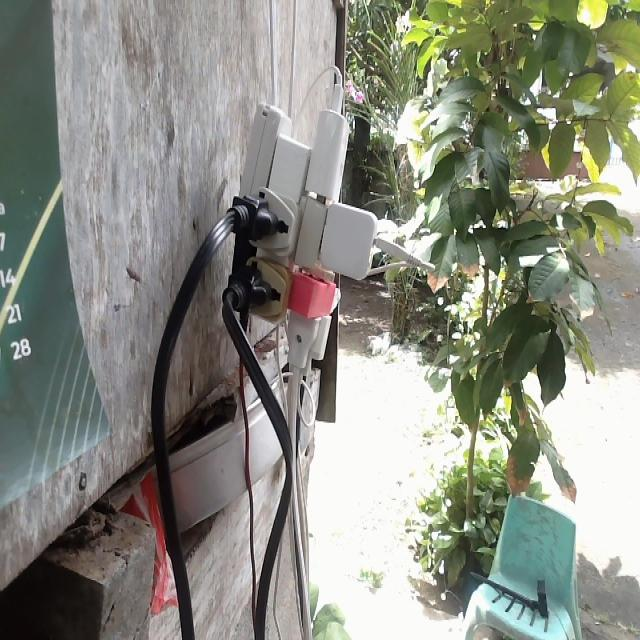-: (226, 88, 375, 359)
